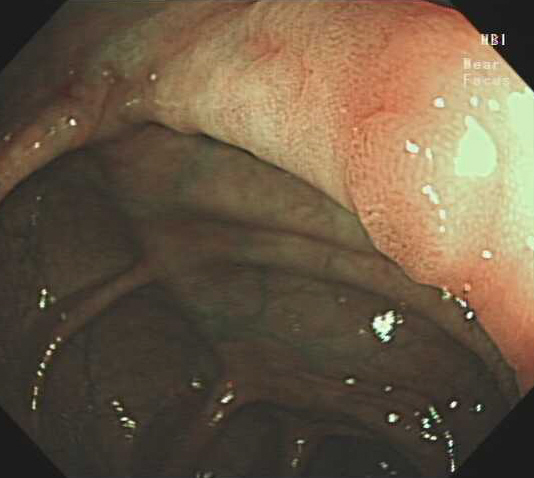adenoma: (344, 106, 497, 294)
